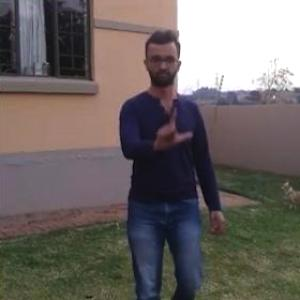land_hand: (149, 100, 194, 157)
